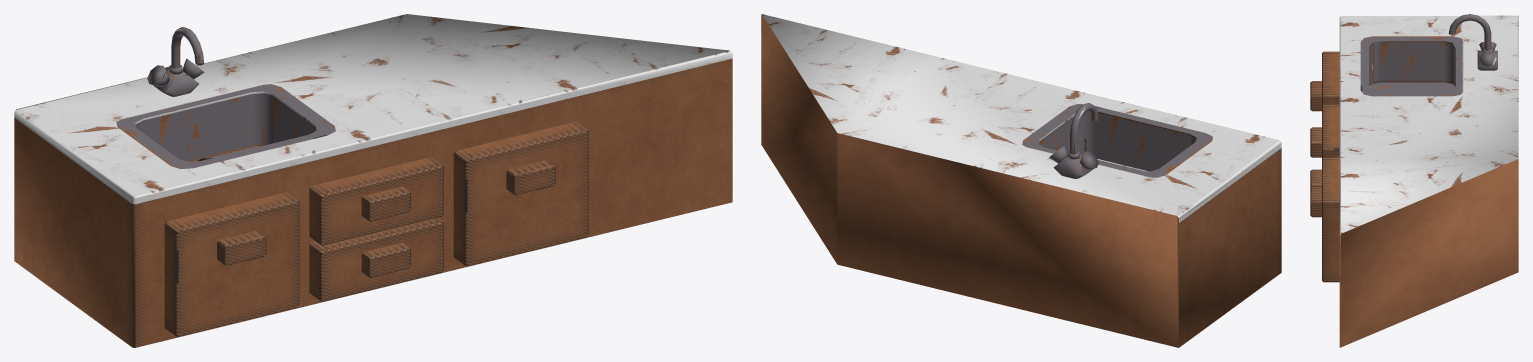
File: countertop.glb
The picture shows the model from 3 angles, left to right: view 1: azimuth 30°, elevation 25°; view 2: azimuth 150°, elevation 25°; view 3: azimuth 270°, elevation 25°; orthographic projection. The views are drawn at different scales.
Visible parts, largest first — view 1: Plane.027; view 2: Plane.027; view 3: Plane.027.
Part boxes in pixels (x1,y1,x2,y2): Plane.027: (14,14,732,347); Plane.027: (761,14,1281,347); Plane.027: (1310,14,1518,347).
Bounding box in the file's own units: 2.9 × 1.02 × 1.16.
1 material, 1 textured.
